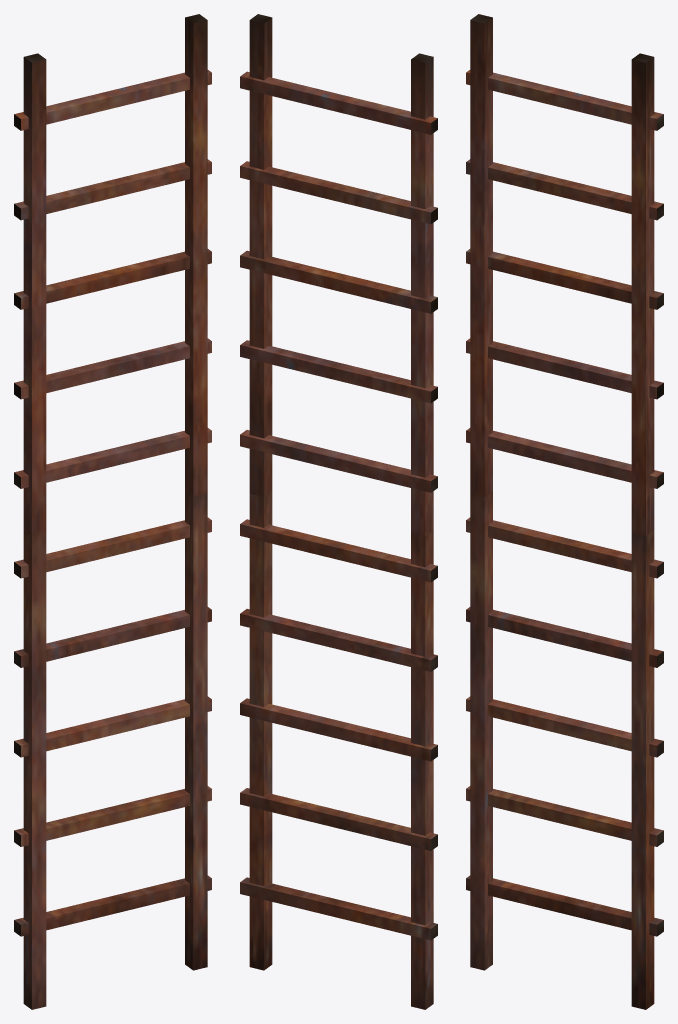
The model's file is MESH_ESGOTO_ESCADA.fbx.
3 views of the same model, side by side, from view 1: azimuth 30°, elevation 25°; view 2: azimuth 150°, elevation 25°; view 3: azimuth 330°, elevation 25° (orthographic).
Visible parts, largest first — view 1: MESH_ESGOTO_ESCADA; view 2: MESH_ESGOTO_ESCADA; view 3: MESH_ESGOTO_ESCADA.
Boxes of the visible parts, <box> form: MESH_ESGOTO_ESCADA: <box>14,14,211,1009</box>; MESH_ESGOTO_ESCADA: <box>240,14,437,1009</box>; MESH_ESGOTO_ESCADA: <box>466,14,663,1009</box>.
Bounding box in the file's own units: 0.8441 × 4 × 0.0781.
